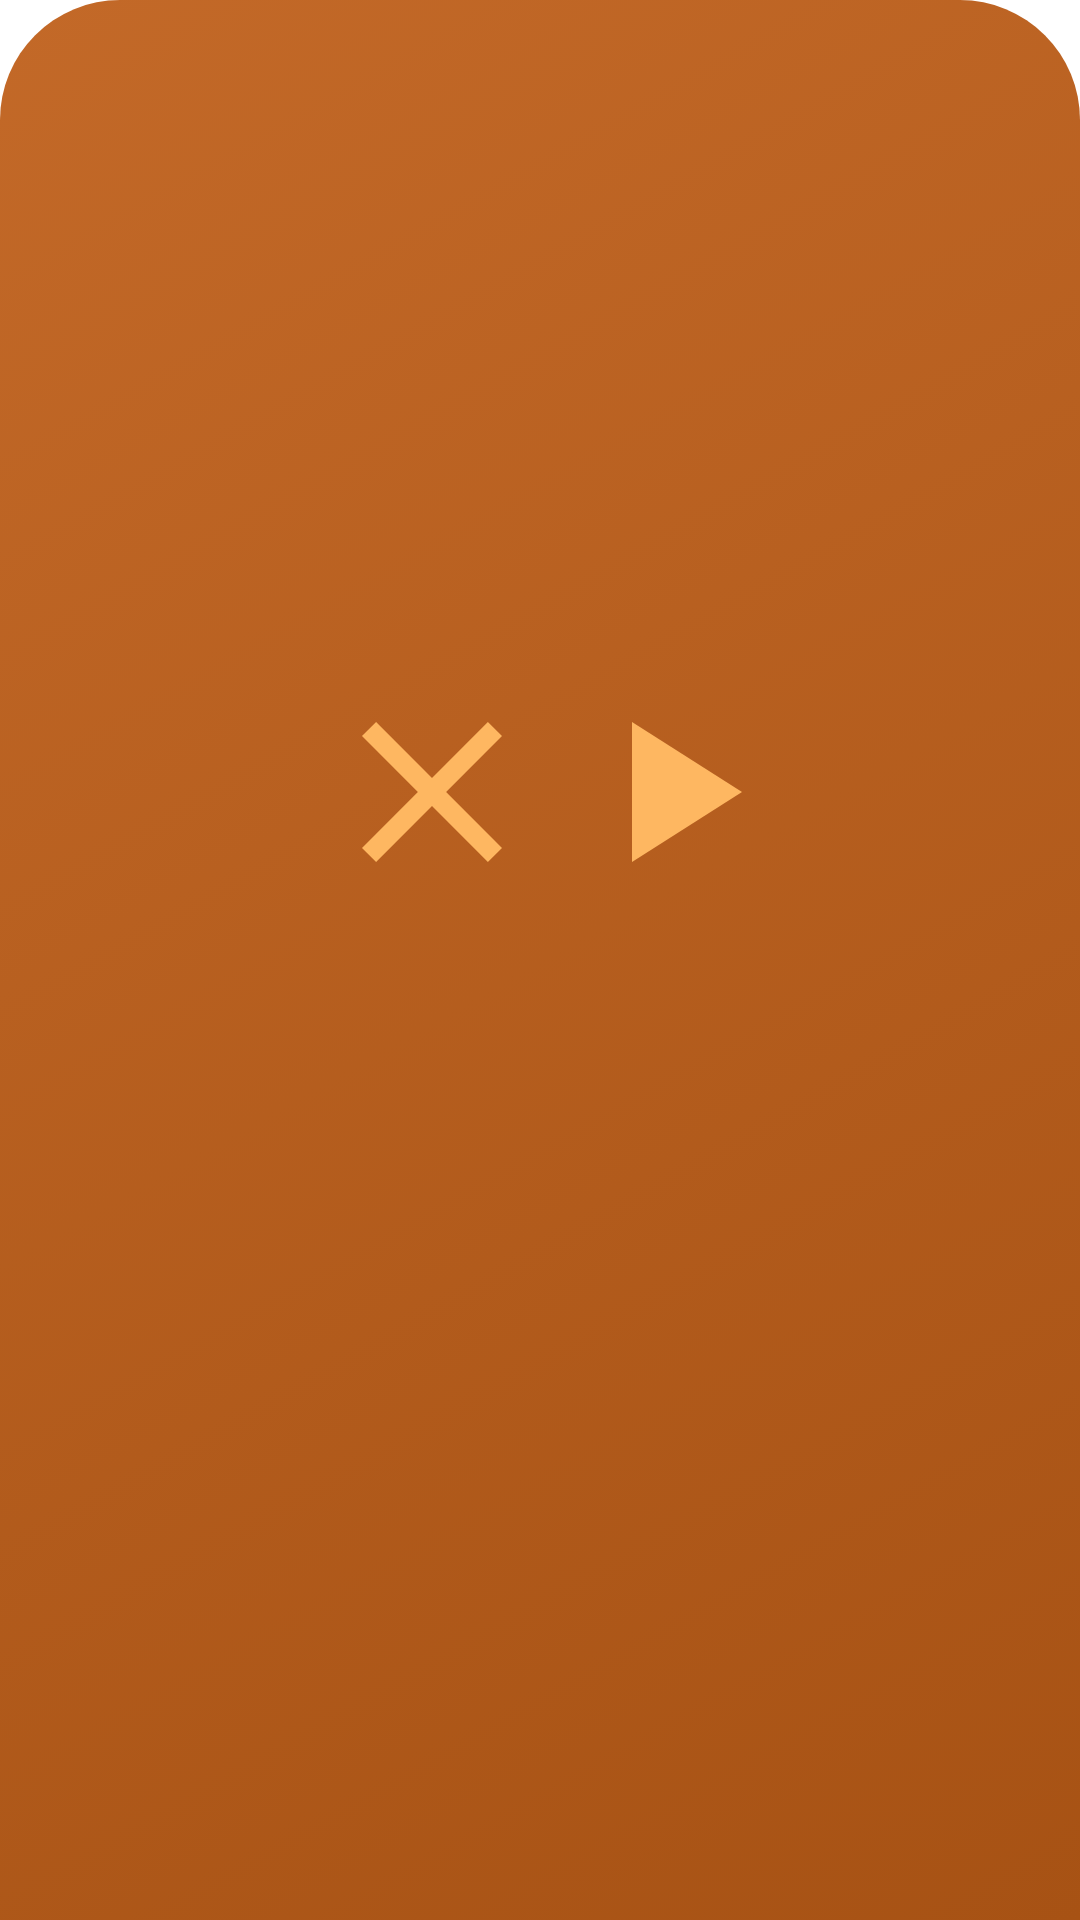

Screen size 1080w x 1920h. Icon name, then its center in pixels as (x=x, y=y):
close: (x=432, y=792)
play arrow: (x=687, y=792)
